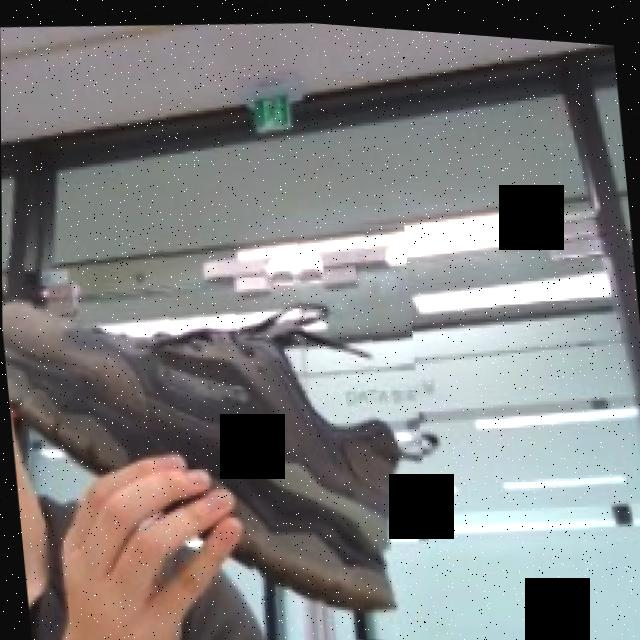shoe: (1, 187, 442, 640)
